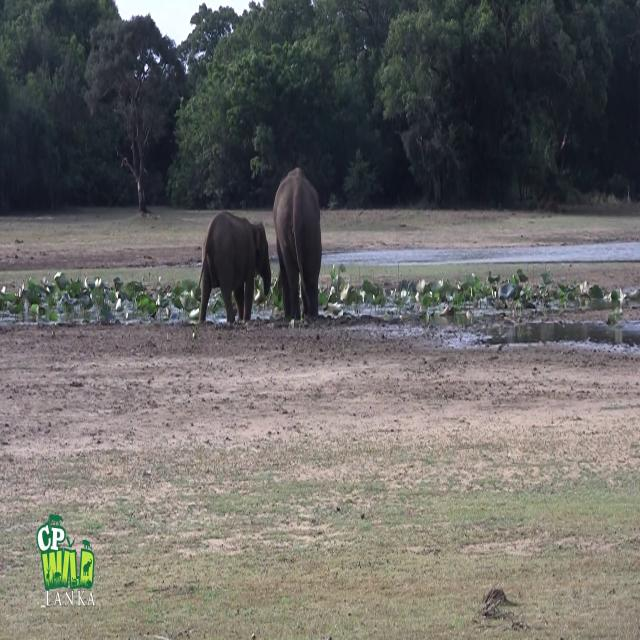Elephant: (197, 210, 271, 326), (272, 166, 322, 323)
